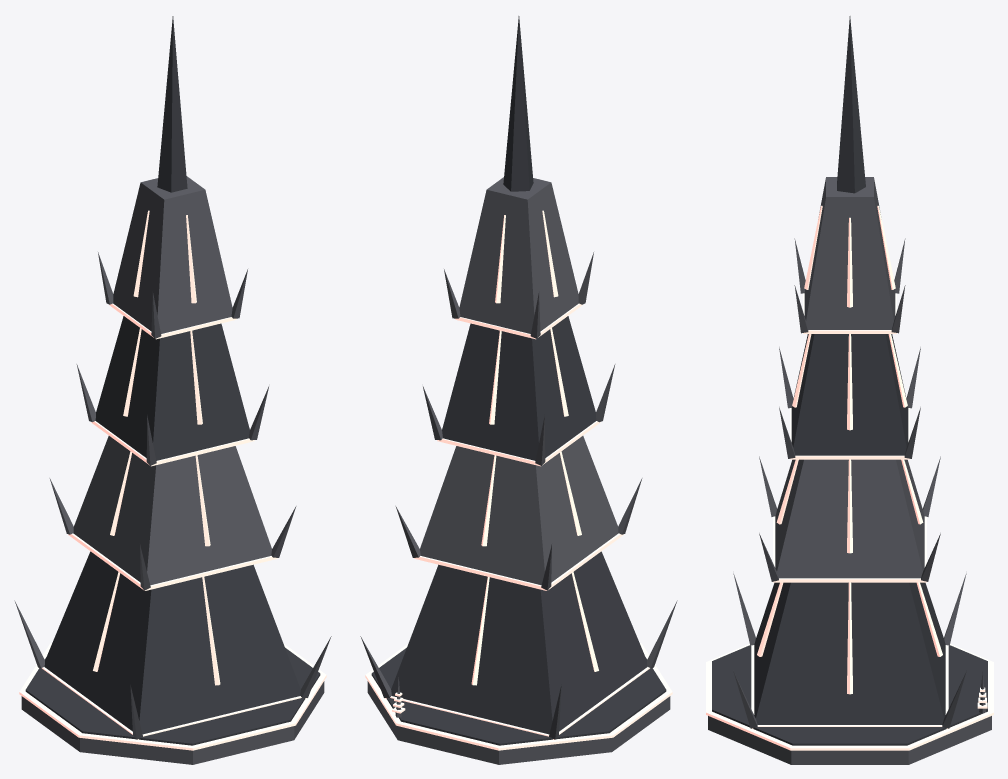
File: zone_high_5_t4.glb
3 views of the same model, side by side, from view 1: azimuth 30°, elevation 25°; view 2: azimuth 150°, elevation 25°; view 3: azimuth 270°, elevation 25° (orthographic).
Visible parts, largest first — view 1: zone_high_5_t4; view 2: zone_high_5_t4; view 3: zone_high_5_t4.
Part boxes in pixels (x1,y1,x2,y2): zone_high_5_t4: (14, 16, 331, 764); zone_high_5_t4: (360, 16, 677, 764); zone_high_5_t4: (706, 16, 993, 764).
Bounding box in the file's own units: 27.35 × 72.43 × 27.35.
